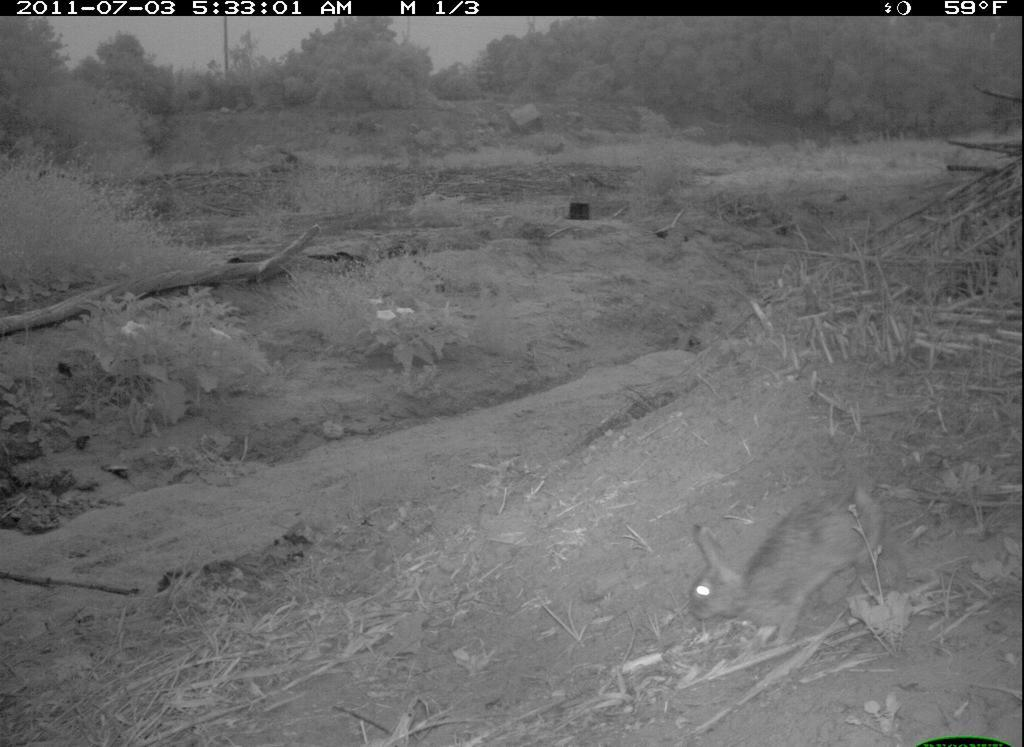rabbit: (681, 477, 900, 656)
